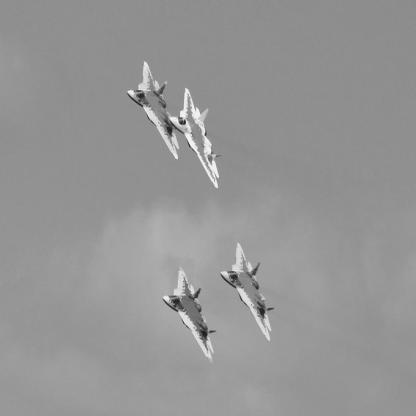Su57: (220, 243, 276, 344), (170, 88, 224, 190), (163, 267, 218, 365), (127, 62, 181, 161)
